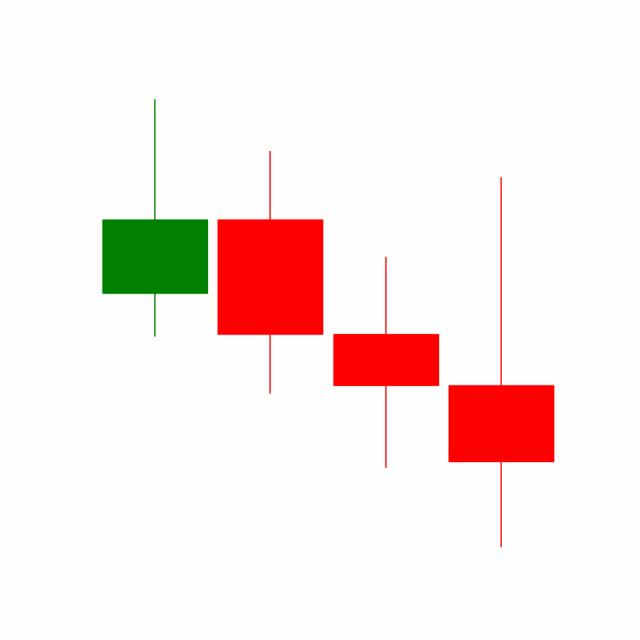Spinning Top: (443, 173, 559, 551)
